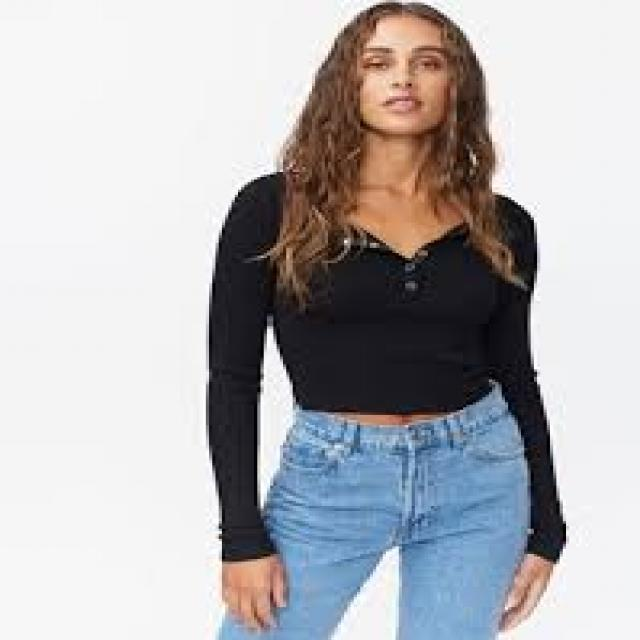plain: (196, 159, 552, 412)
